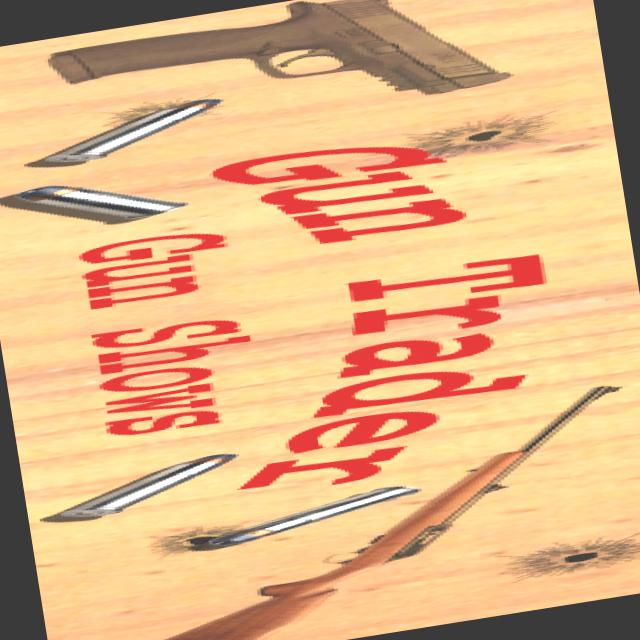handgun: (47, 0, 529, 154)
